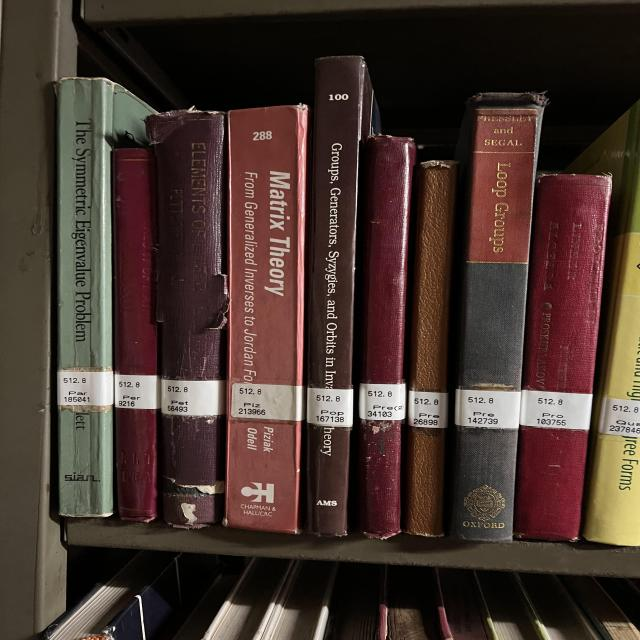Book: (57, 78, 153, 516), (453, 94, 547, 540), (513, 174, 612, 540), (225, 105, 308, 534), (147, 110, 228, 529), (307, 56, 373, 536), (573, 104, 640, 546), (358, 135, 417, 539), (405, 161, 457, 536), (113, 149, 160, 521), (45, 551, 177, 640), (153, 559, 247, 640), (203, 558, 290, 640), (260, 561, 338, 640), (518, 574, 600, 640), (563, 576, 640, 640), (477, 571, 540, 640), (325, 564, 382, 640), (387, 566, 440, 640), (438, 569, 488, 640)
Label: (520, 390, 593, 430), (230, 382, 303, 421), (455, 389, 522, 429), (162, 379, 225, 416), (58, 371, 113, 406), (307, 388, 353, 428), (358, 384, 407, 421), (598, 398, 640, 438), (115, 374, 160, 409), (408, 391, 448, 429)
